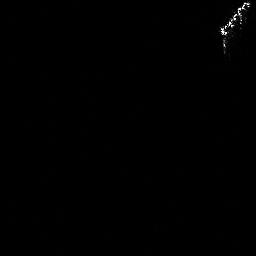ship: (218, 1, 251, 55)
